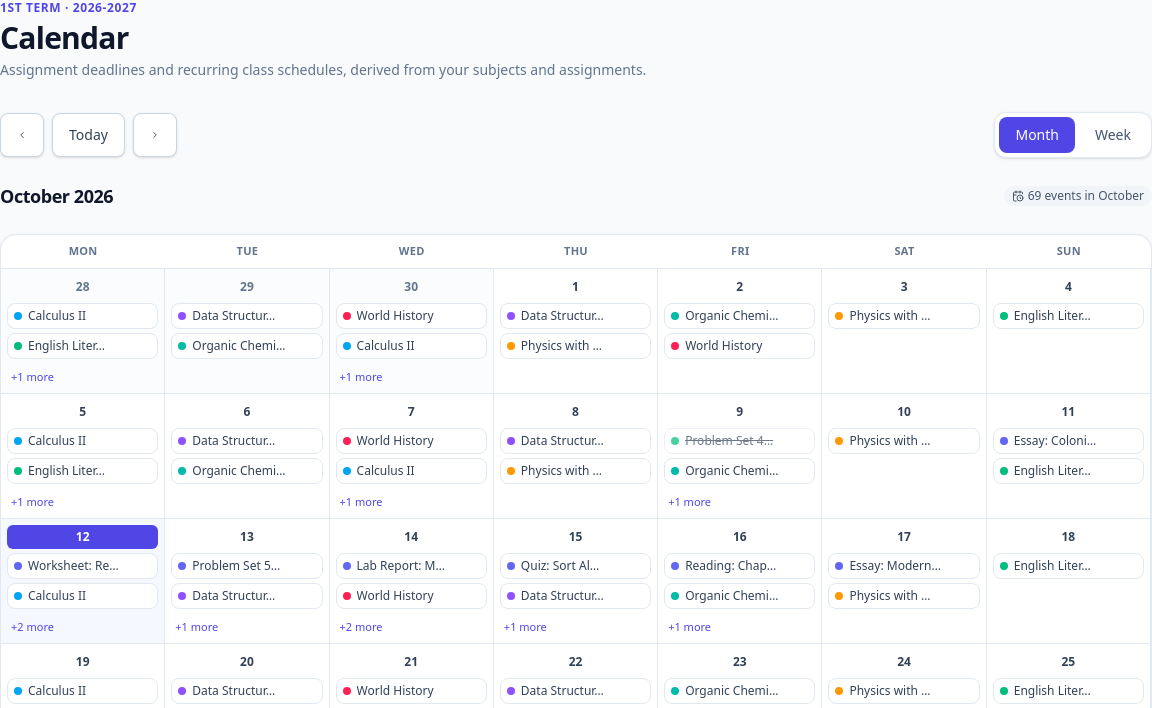
it: calendar event details › shows class details with time, location and instructor
Step 1. Click the 1st button "Calculus II" → point(83, 316), box [7, 302, 158, 328]
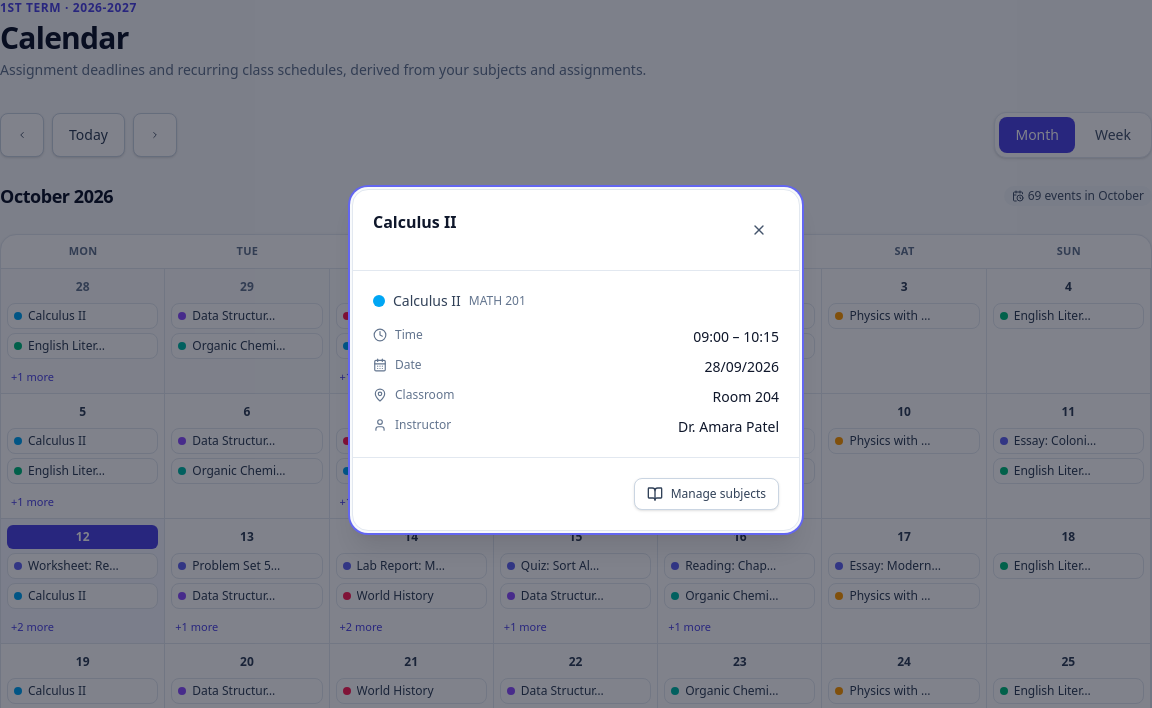
Now the text "Time" is shown, box [373, 327, 423, 343]
Now the text "Classroom" is shown, box [373, 387, 454, 403]
Now the text "Instructor" is shown, box [373, 417, 451, 433]
